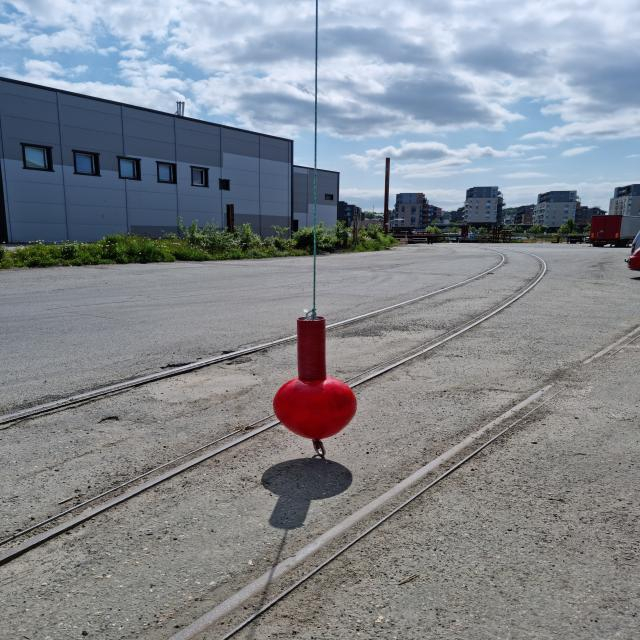red: (272, 320, 358, 440)
